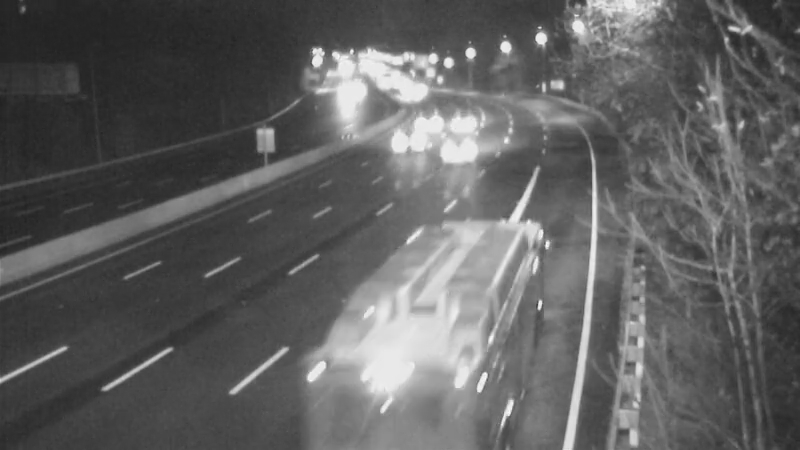vehicle: (384, 273, 494, 383), (419, 112, 499, 192), (379, 70, 429, 120), (437, 90, 487, 140), (399, 93, 449, 143), (382, 114, 432, 164)
